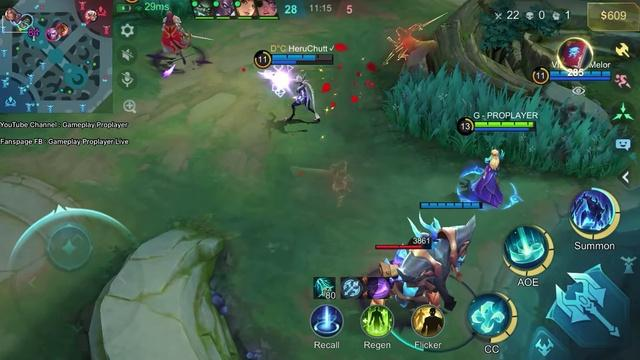Adc_Aliado: (11, 12, 24, 24)
Arbusto: (377, 67, 624, 179), (134, 0, 192, 18)
Cangrejo_Exp: (357, 251, 407, 309)
Exp_Aliado: (21, 14, 32, 24)
Exp_Enemigo: (45, 27, 58, 41)
HP_Aliado: (271, 55, 335, 60), (550, 72, 611, 77)
HP_Heroe_Principal: (473, 121, 535, 127)
Hechizo_Batalla: (412, 305, 444, 336)
Jungla_Aliado: (52, 28, 62, 39)
Jungla_Enemigo: (4, 8, 16, 20)
Karry: (270, 71, 321, 128)
Lancelot: (158, 11, 217, 64)
Lord_Vexana: (361, 214, 474, 325)
Mana: (273, 58, 335, 66), (473, 126, 534, 134)
Mid_Aliado: (85, 9, 99, 23), (16, 20, 31, 28)
Minimapa: (0, 0, 114, 113)
Roamer_Enemigo: (56, 23, 70, 35)
Skill1: (467, 293, 515, 343)
Skill2: (506, 224, 555, 274)
Vexana: (473, 150, 503, 206)
skill3: (571, 187, 620, 236)
